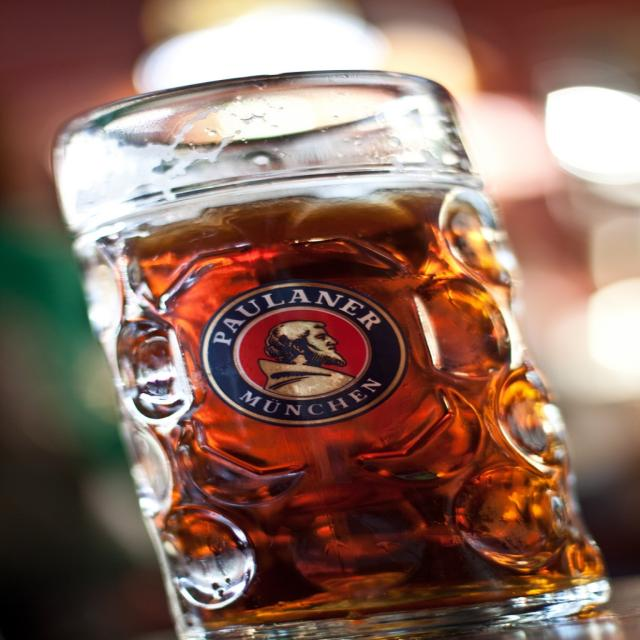paulaner: (201, 282, 406, 429)
